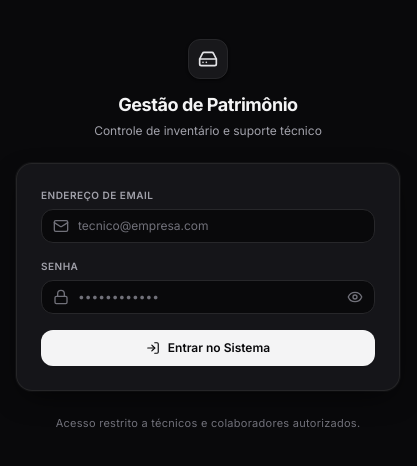
Scenario: Tela de Login (LoginPage Component & BDD Scenarios) › Cenário 2: Exibe validações visuais ao tentar submeter formulário em branco ou com formato de email inválido
Click the button "Entrar no Sistema" at (208, 348), box [41,330,375,366]
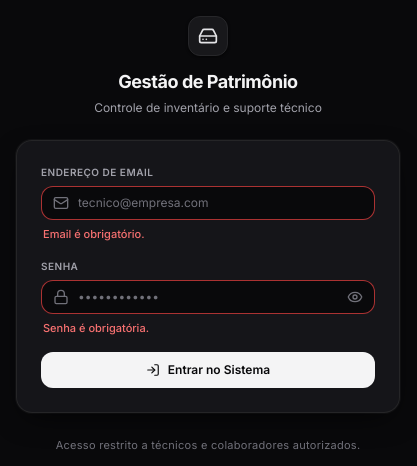
Result: the text "Email é obrigatório." is shown at [43,227,144,241]
Result: the text "Senha é obrigatória." is shown at [43,321,149,335]
// Testa email sem @
Type "emailinvalido" into the field labelled "Endereço de Email" at (208, 203), box [41,186,375,220]
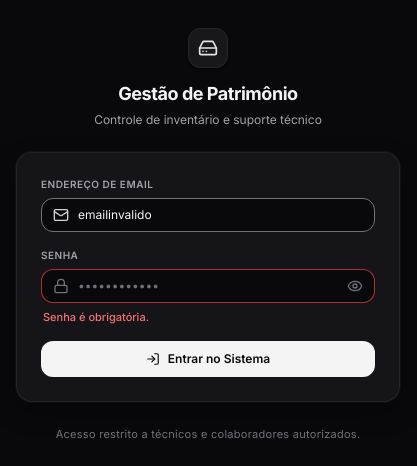
Click the button "Entrar no Sistema" at (208, 359), box [41,341,375,377]
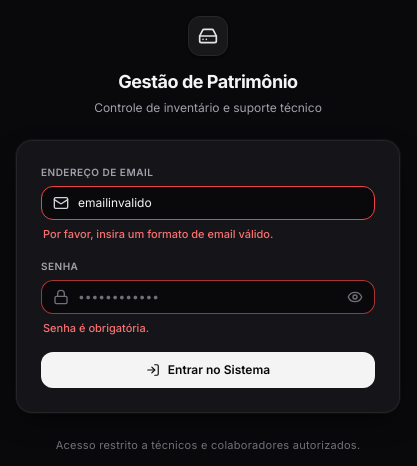
Result: the text "Por favor, insira um formato de email válido." is shown at [43,227,273,241]
